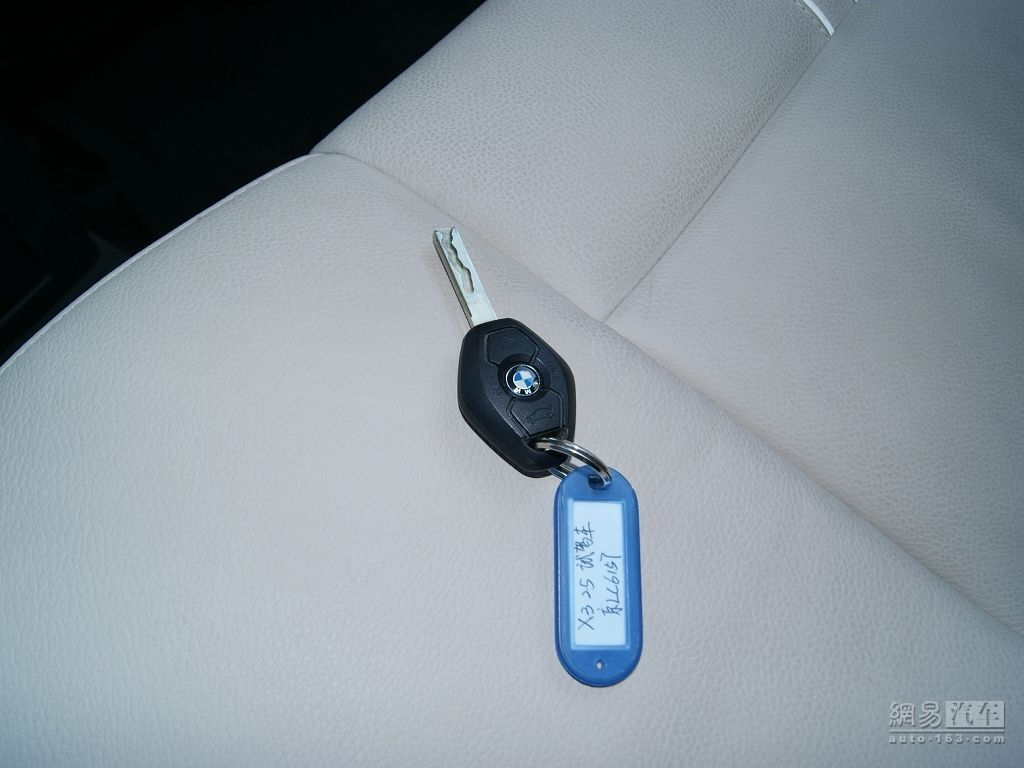key: (423, 219, 591, 476)
